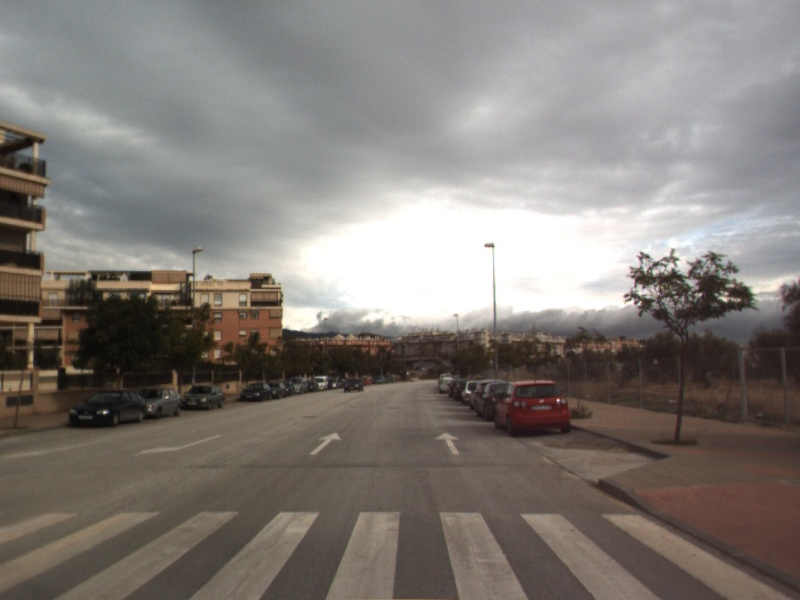STRAIGHT: (308, 431, 343, 457), (432, 430, 463, 456)
